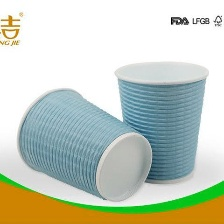paper_cup: (11, 82, 156, 204), (110, 57, 212, 187)
